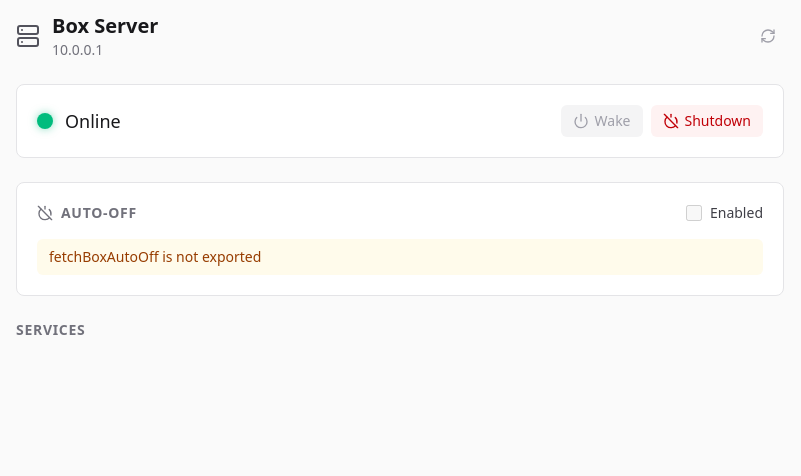
Scenario: BoxPage shutdown errors › keeps the shutdown error visible across a successful status poll
Expected: the heading "Box Server" is shown, [52,12,158,40]
Click the button "Shutdown" at (707, 121), box [650,105,763,137]
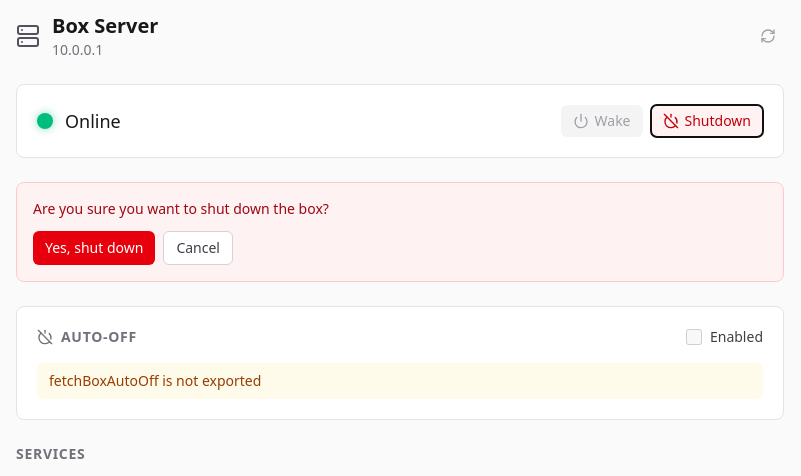
Click the button "Yes, shut down" at (94, 248), box [33,231,155,265]
Wait 11000 ms
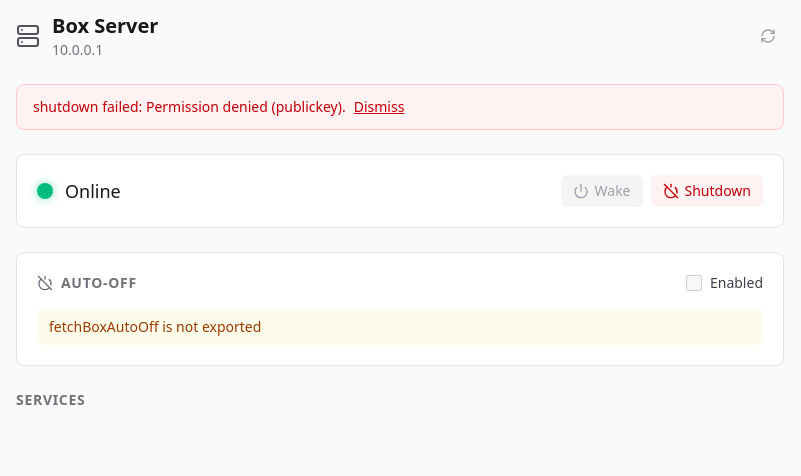
Result: the message "shutdown failed: Permission denied (publickey). Dismiss" is shown at [16,84,784,130]
